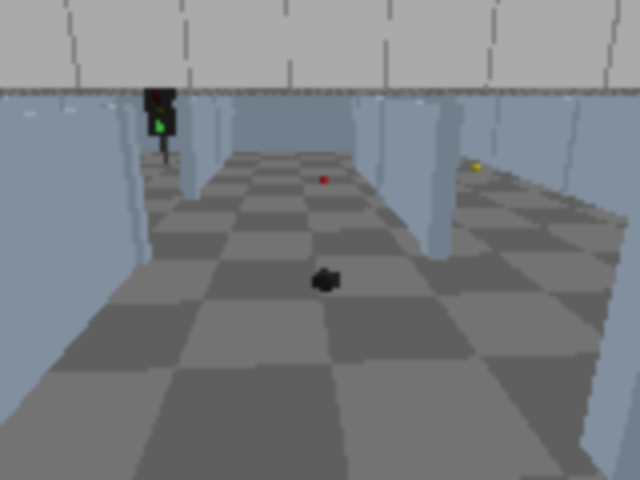puck: (314, 269, 340, 292)
traffic_light: (143, 84, 181, 164)
